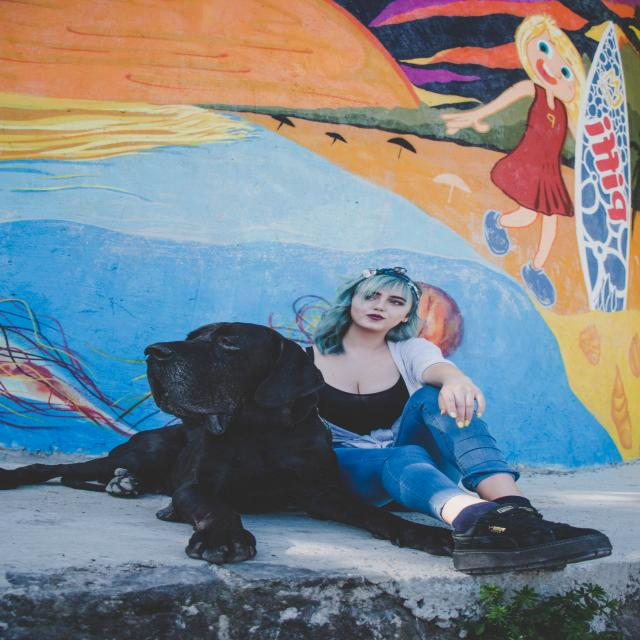adult: (284, 268, 610, 580)
